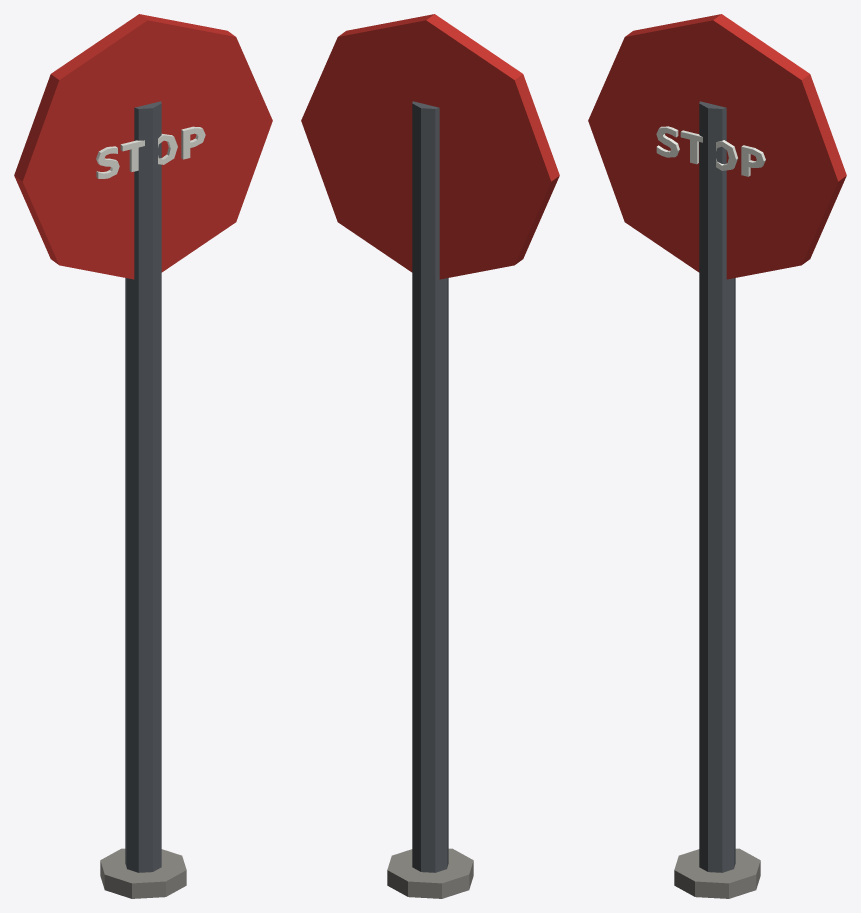
Rendered from VG_RoadSign.fbx.
3 renders of one model, left to right at view 1: azimuth 30°, elevation 25°; view 2: azimuth 150°, elevation 25°; view 3: azimuth 330°, elevation 25°, orthographic.
Parts seen in each view (by area): view 1: VG_RoadSign_Mesh; view 2: VG_RoadSign_Mesh; view 3: VG_RoadSign_Mesh.
Part boxes in pixels (<box>): VG_RoadSign_Mesh: <box>14,14,272,898</box>; VG_RoadSign_Mesh: <box>301,14,559,898</box>; VG_RoadSign_Mesh: <box>588,14,846,898</box>.
Size of the model in its own units: 0.84 by 2.77 by 0.26.
